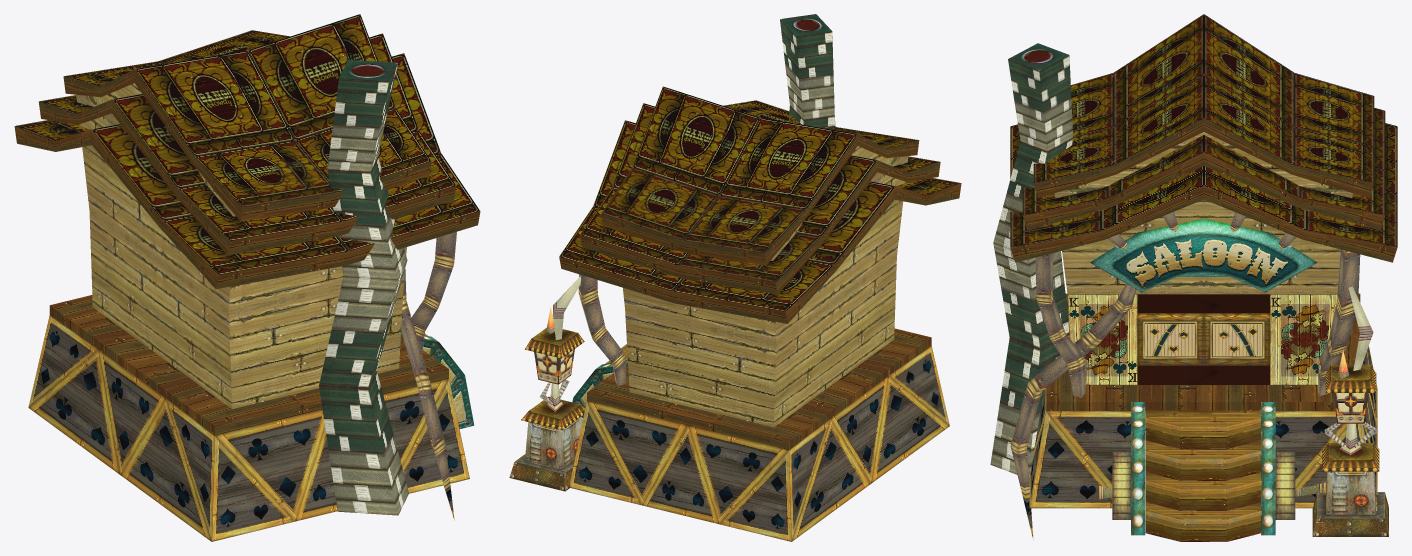
3 renders of one model, left to right at view 1: azimuth 30°, elevation 25°; view 2: azimuth 150°, elevation 25°; view 3: azimuth 270°, elevation 25°, orthographic. The views are drawn at different scales.
Visible parts, largest first — view 1: objSaloon; view 2: objSaloon; view 3: objSaloon.
Boxes of the visible parts, x1,y1,x2,y2 form: objSaloon: [14, 14, 480, 541]; objSaloon: [509, 14, 961, 541]; objSaloon: [990, 14, 1397, 541].
Size of the model in its own units: 457 by 568 by 470.
Materials: 1 (1 with a texture image).
